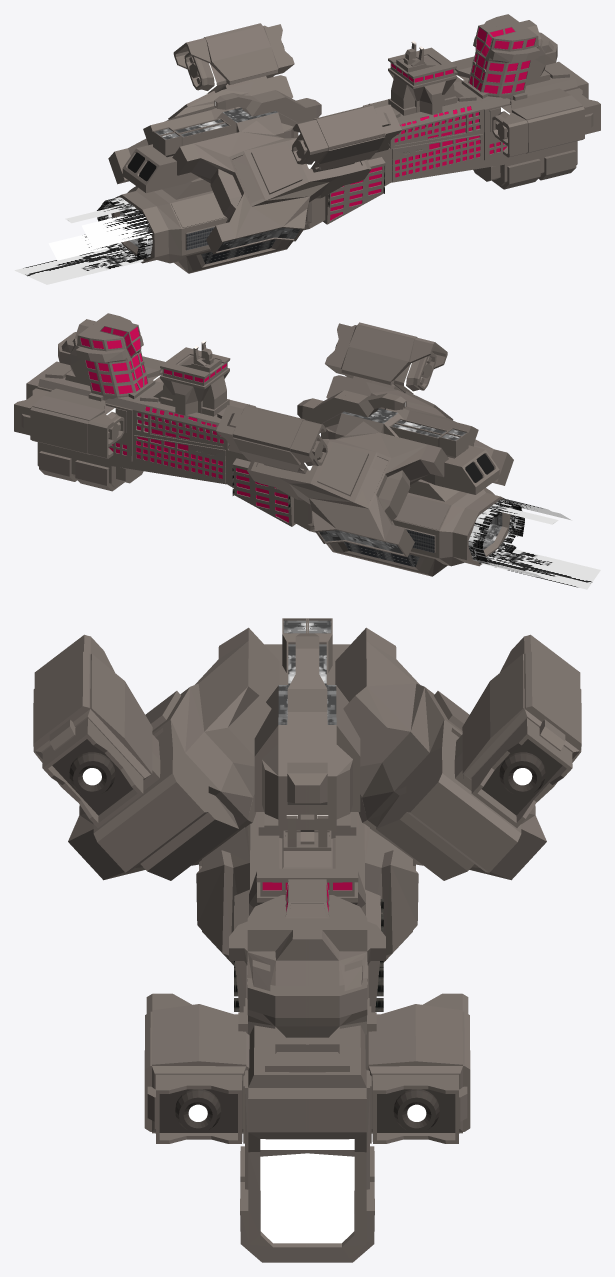
File: test_ship1.glb
3 renders of one model, top to bottom at view 1: azimuth 30°, elevation 25°; view 2: azimuth 150°, elevation 25°; view 3: azimuth 270°, elevation 25°, orthographic. The views are drawn at different scales.
Parts seen in each view (by area): view 1: MasterShip, Plane.019, Plane.015, Edges, Plane.018, Plane.016, Plane.017; view 2: MasterShip, Plane.019, Edges, Plane.017; view 3: MasterShip.
Part boxes in pixels (box(x1,y1,x2,y2)): MasterShip: box(108, 14, 600, 273); Plane.019: box(14, 247, 143, 284); Plane.015: box(82, 211, 152, 249); Edges: box(97, 197, 152, 262); Plane.018: box(48, 234, 109, 260); Plane.016: box(99, 214, 149, 235); Plane.017: box(65, 203, 134, 223); MasterShip: box(14, 313, 513, 576); Plane.019: box(479, 549, 600, 589); Edges: box(468, 500, 524, 564); Plane.017: box(487, 504, 558, 524); MasterShip: box(33, 618, 581, 1262).
Size of the model in its own units: 182 by 52.88 by 78.96.
Materials: 22 (12 with a texture image).
